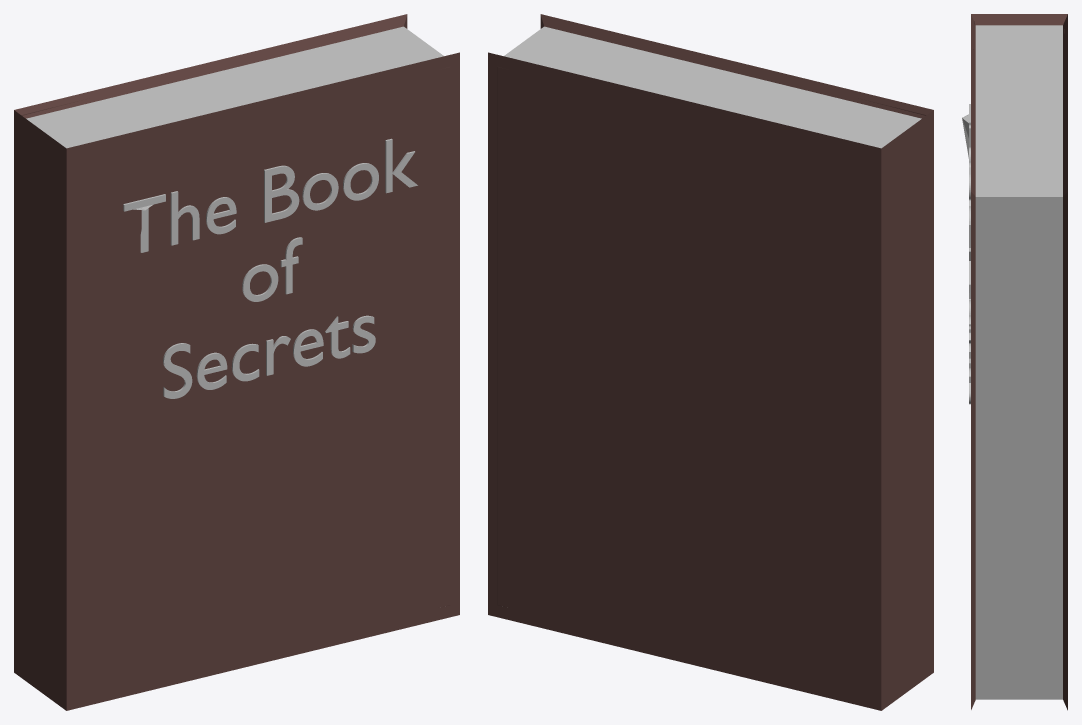
Rendered from The Book Of Secrets.fbx.
3 renders of one model, left to right at view 1: azimuth 30°, elevation 25°; view 2: azimuth 150°, elevation 25°; view 3: azimuth 270°, elevation 25°, orthographic. The views are drawn at different scales.
Parts seen in each view (by area): view 1: Text; view 2: Text; view 3: Text.
Part boxes in pixels (<box>): Text: <box>14,14,459,710</box>; Text: <box>488,14,933,710</box>; Text: <box>962,14,1067,710</box>.
Size of the model in its own units: 207 by 282 by 52.19.
